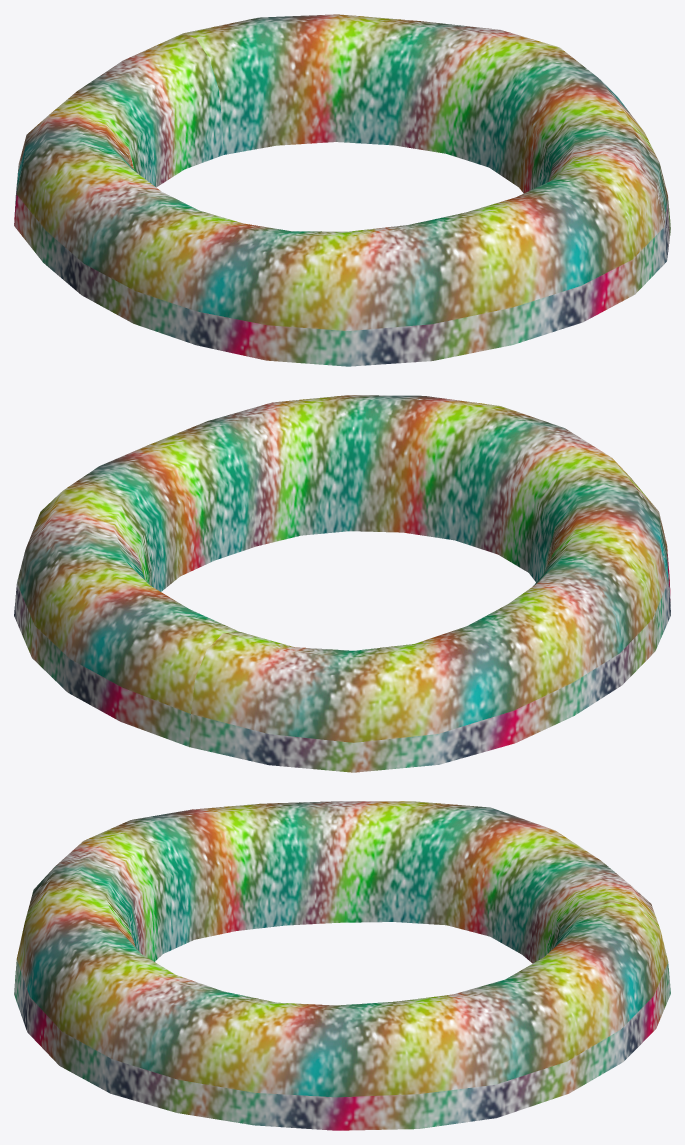
The model's file is Teleporter.FBX.
3 renders of one model, top to bottom at view 1: azimuth 30°, elevation 25°; view 2: azimuth 150°, elevation 25°; view 3: azimuth 270°, elevation 25°, orthographic. The views are drawn at different scales.
Parts seen in each view (by area): view 1: Teleporter; view 2: Teleporter; view 3: Teleporter.
Part boxes in pixels (x1=…): Teleporter: x1=14, y1=14, x2=670, y2=366; Teleporter: x1=14, y1=395, x2=670, y2=772; Teleporter: x1=14, y1=801, x2=670, y2=1130.
Bounding box in the file's own units: 31.18 × 6.4 × 33.06.
